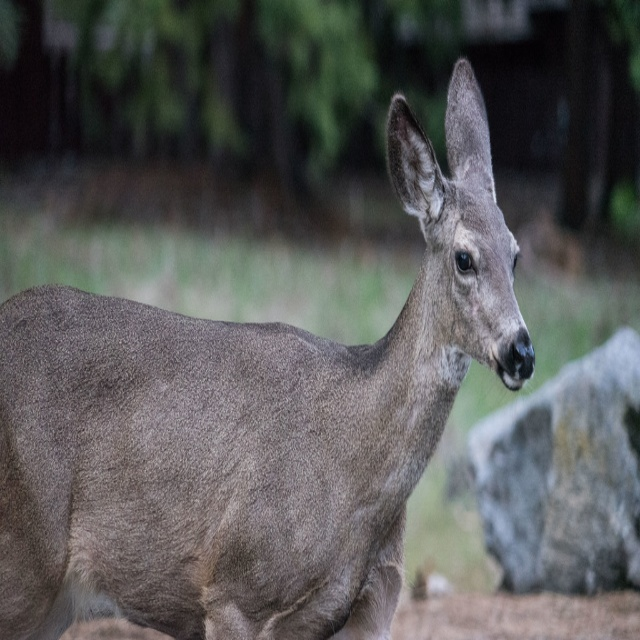Kangaroo: (0, 59, 539, 638)
